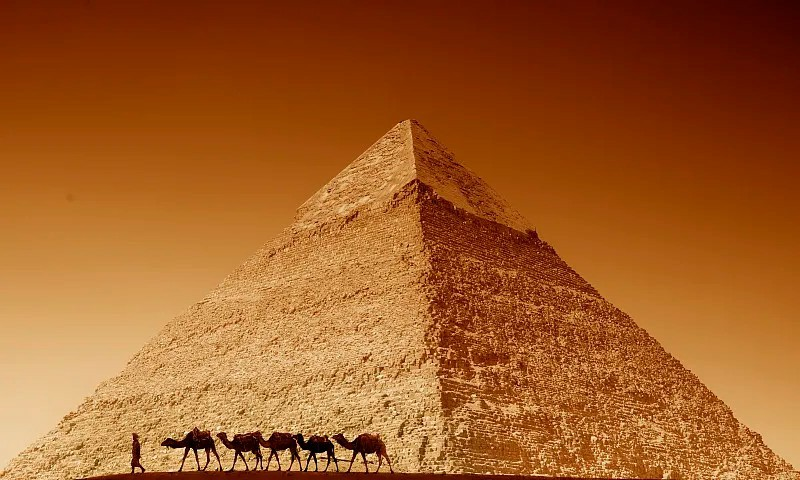Pyramid: (3, 118, 800, 480)
